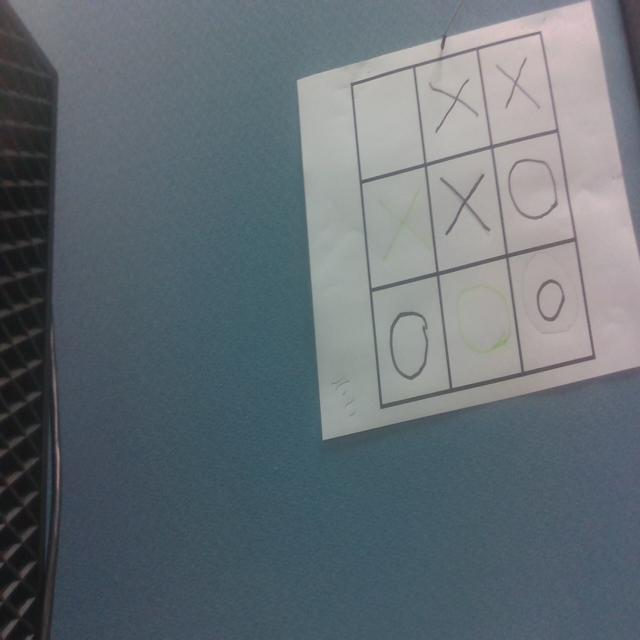null: (354, 69, 423, 180)
o: (456, 279, 520, 354), (508, 155, 557, 220), (389, 308, 429, 379), (535, 276, 566, 323)
table: (353, 29, 600, 412)
x: (382, 187, 423, 262), (446, 175, 490, 236), (432, 77, 480, 132), (499, 59, 540, 111)
